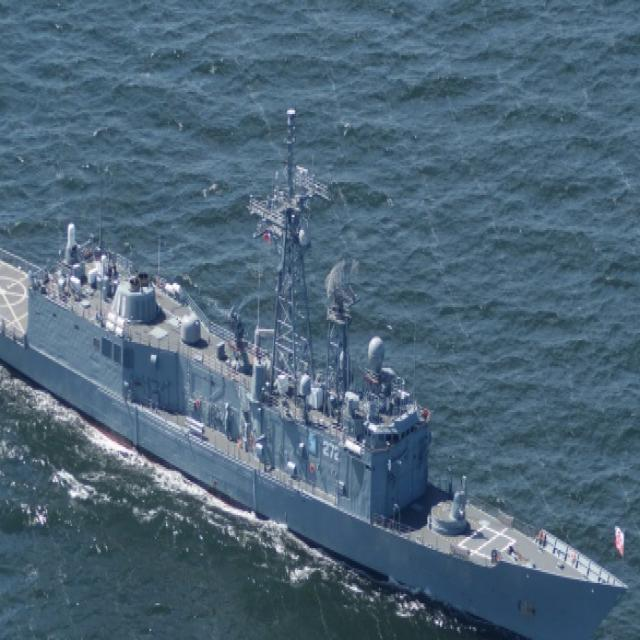Fragata: (1, 109, 628, 640)
